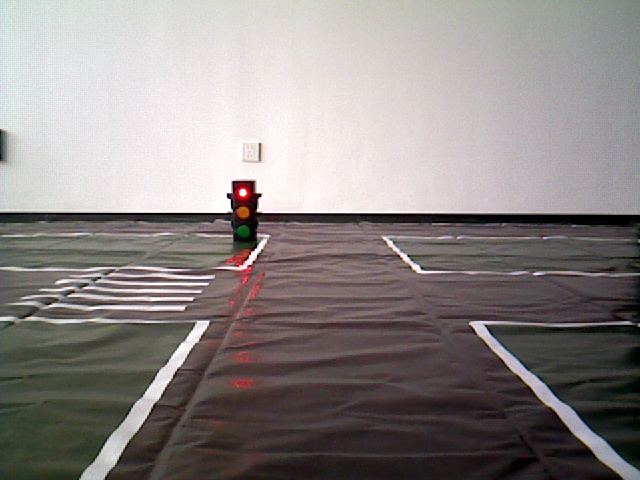red: (230, 181, 253, 242)
